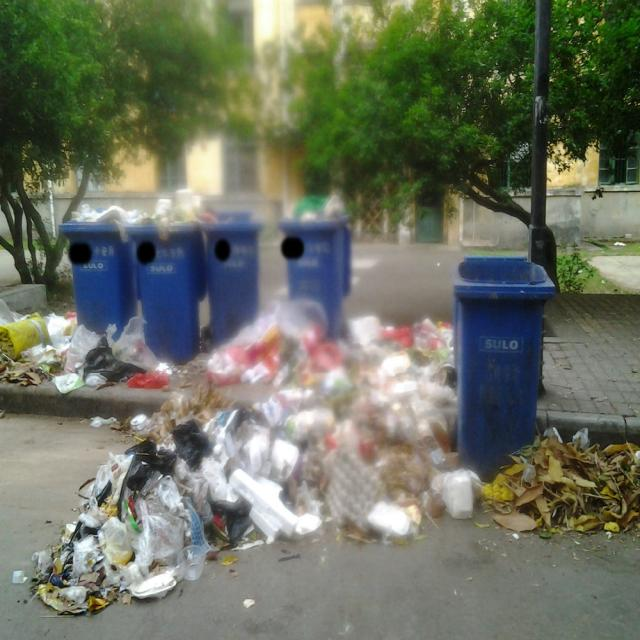garbage: (15, 301, 481, 614), (482, 427, 640, 538), (0, 298, 172, 392)
garbage_bin: (454, 253, 554, 484)
overflow: (126, 188, 202, 364), (58, 203, 137, 341), (278, 193, 350, 338), (204, 209, 262, 343)
